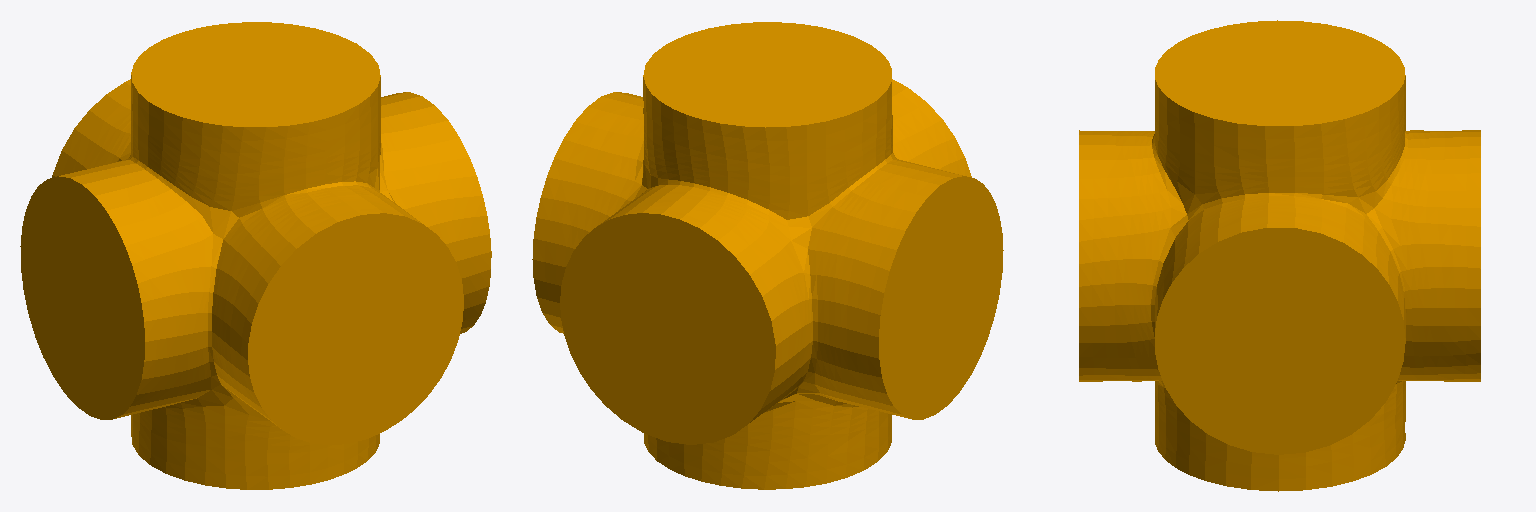
robot.urdf — object:
<robot name="object">
  <link name="object">
    <visual>
      <origin xyz="0 0 0"/>
      <geometry>
        <mesh filename="visual.obj" scale="1 1 1"/>
      </geometry>
    </visual>
    <collision>
      <origin xyz="0 0 0"/>
      <geometry>
        <mesh filename="visual.obj" scale="1 1 1"/>
      </geometry>
    </collision>
    <inertial>
      <mass value="0.05"/>
      <inertia ixx="5.1000005692921354e-05" iyy="5.099165959558471e-05" izz="5.0999450885997874e-05" ixy="-4.4959129033554e-09" ixz="3.4488745310231364e-09" iyz="-9.785480274613639e-09"/>
    </inertial>
  </link>
</robot>

--- Facts derived from the render (not from the file) ---
The picture shows the robot from 3 angles, left to right: view 1: azimuth 30°, elevation 25°; view 2: azimuth 150°, elevation 25°; view 3: azimuth 270°, elevation 25°; orthographic projection.
Robot: object — 1 links, 0 joints (none); root link object; default pose: every joint at zero.
Visible links, largest first — view 1: object; view 2: object; view 3: object.
Link boxes in pixels (bbox=[...]): object: bbox=[20, 22, 491, 489]; object: bbox=[532, 22, 1003, 489]; object: bbox=[1079, 20, 1480, 491].
Size in the robot's own frame: 0.096 by 0.096 by 0.096 metres.
Meshes: 1 distinct files referenced, 1 mesh visuals loaded (1 OBJ).
